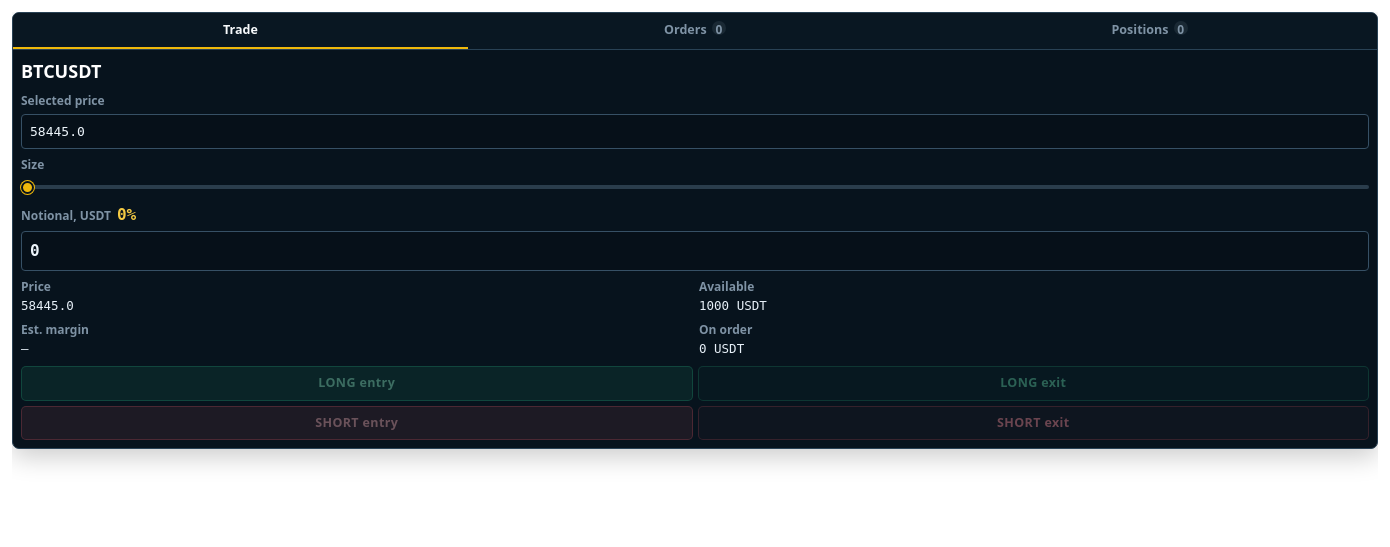
Scenario: FuturesTradingTicket › keeps a locally unsent order visible after removing passive success feedback
Set the slider named "Order size percent" to "25" at x=362, y=187, box [21,178,1369,196]
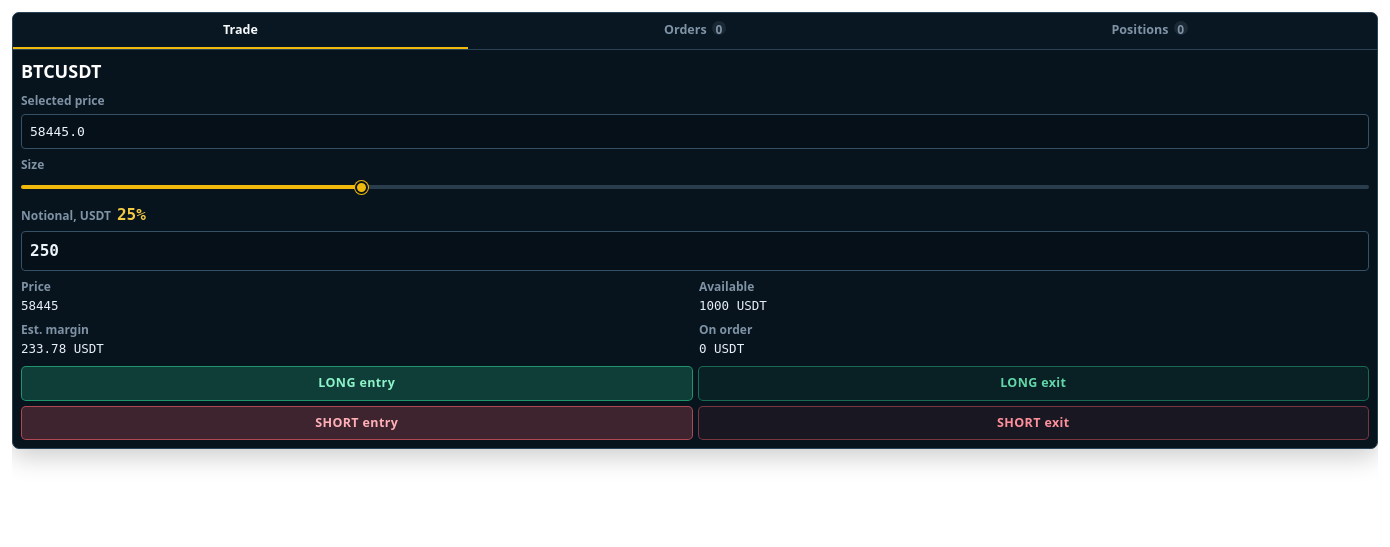
Click the button "LONG entry".
click(357, 383)  # box [21,366,692,401]
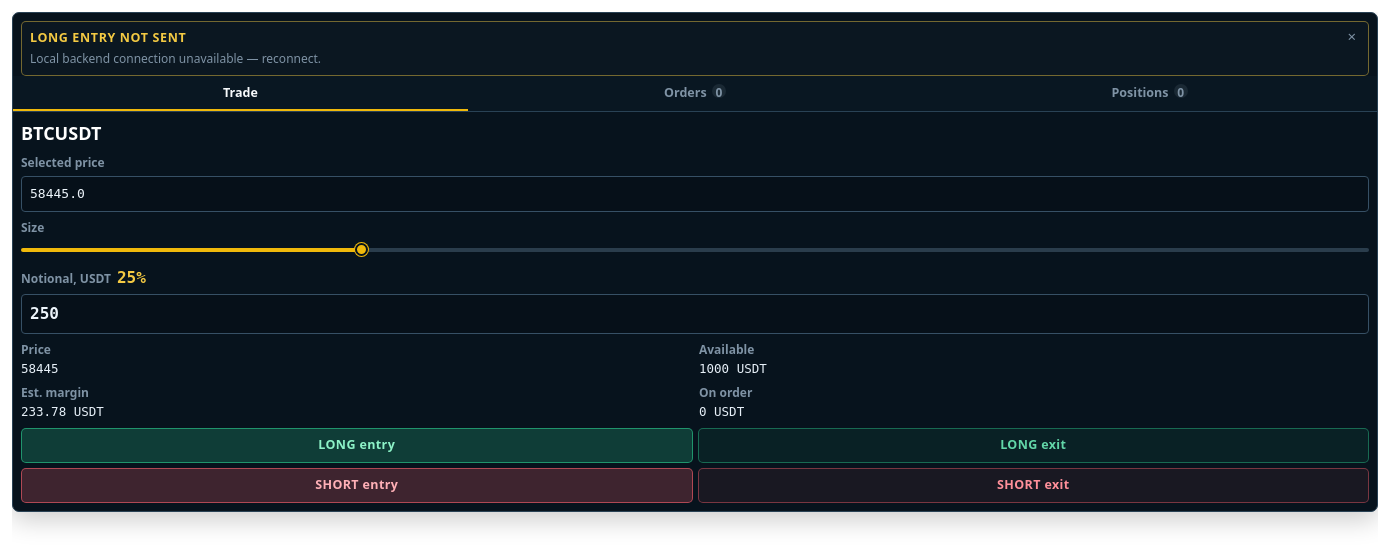
expect the message named "Futures gesture feedback" shows "LONG entry NOT sent": met, box [30,29,186,46]
expect the message named "Futures gesture feedback" shows "reconnect": met, box [30,50,321,67]
